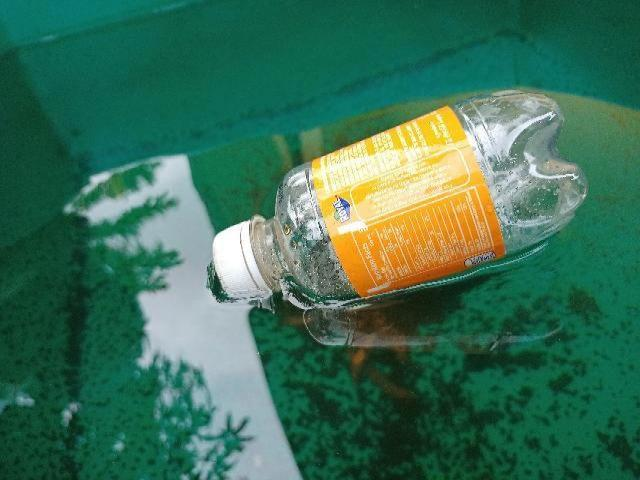Bottle: (204, 83, 599, 318)
